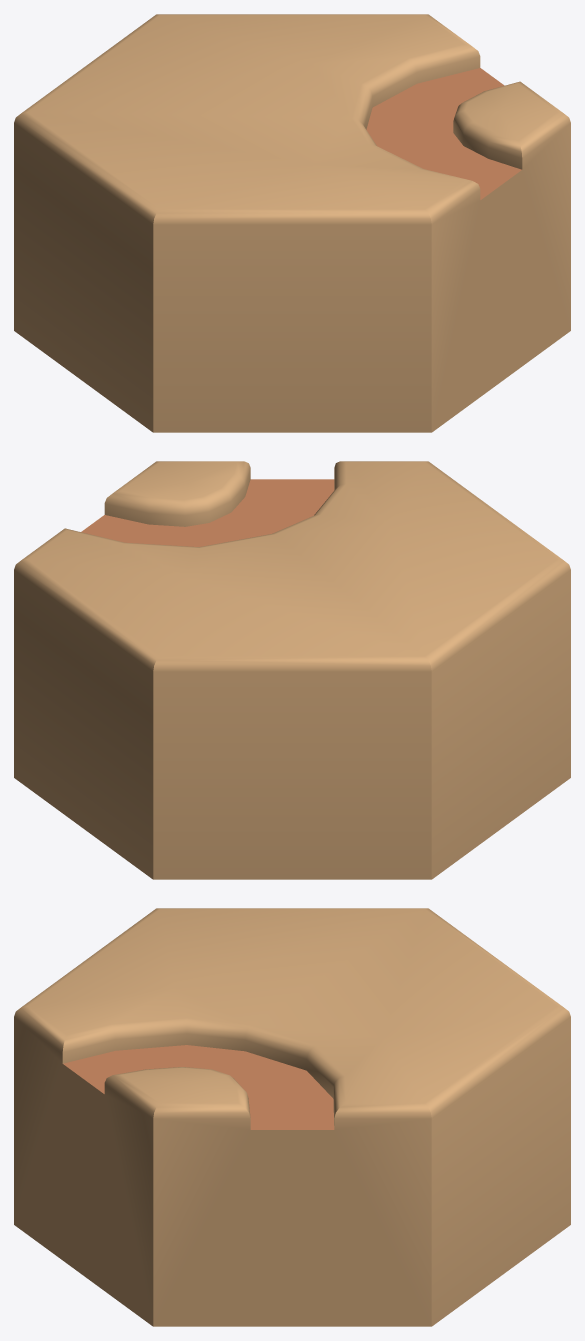
File: hex_sand_roadC.glb
The picture shows the model from 3 angles, top to bottom: view 1: azimuth 30°, elevation 25°; view 2: azimuth 150°, elevation 25°; view 3: azimuth 270°, elevation 25°; orthographic projection.
Parts seen in each view (by area): view 1: hex_sand_roadC; view 2: hex_sand_roadC; view 3: hex_sand_roadC.
Part boxes in pixels (x1=…): hex_sand_roadC: x1=14, y1=14, x2=570, y2=432; hex_sand_roadC: x1=14, y1=461, x2=570, y2=879; hex_sand_roadC: x1=14, y1=908, x2=570, y2=1326.
Bounding box in the file's own units: 3.82 × 1.91 × 4.41.
